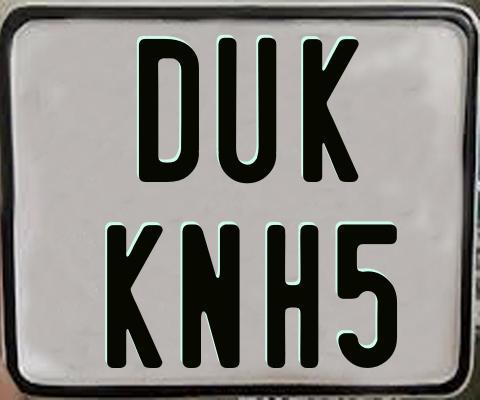5: (337, 221, 401, 369)
D: (139, 36, 205, 183)
H: (266, 224, 324, 370)
K: (107, 224, 166, 372), (300, 37, 358, 181)
N: (180, 224, 241, 373)
U: (217, 36, 281, 184)
